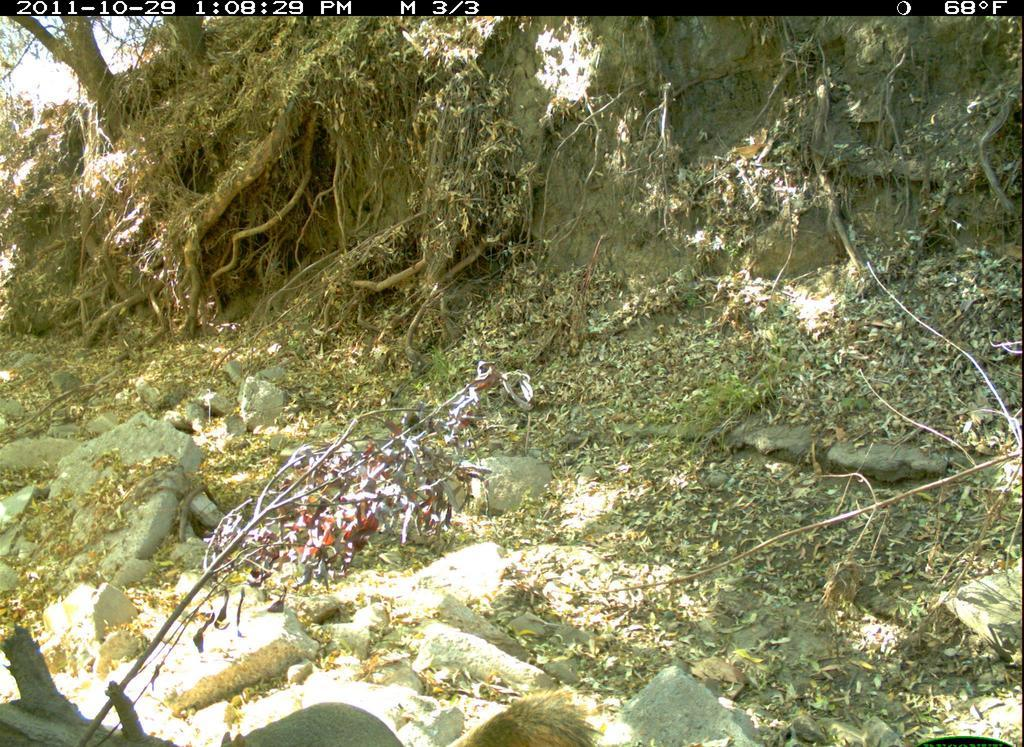squirrel: (438, 664, 610, 747)
